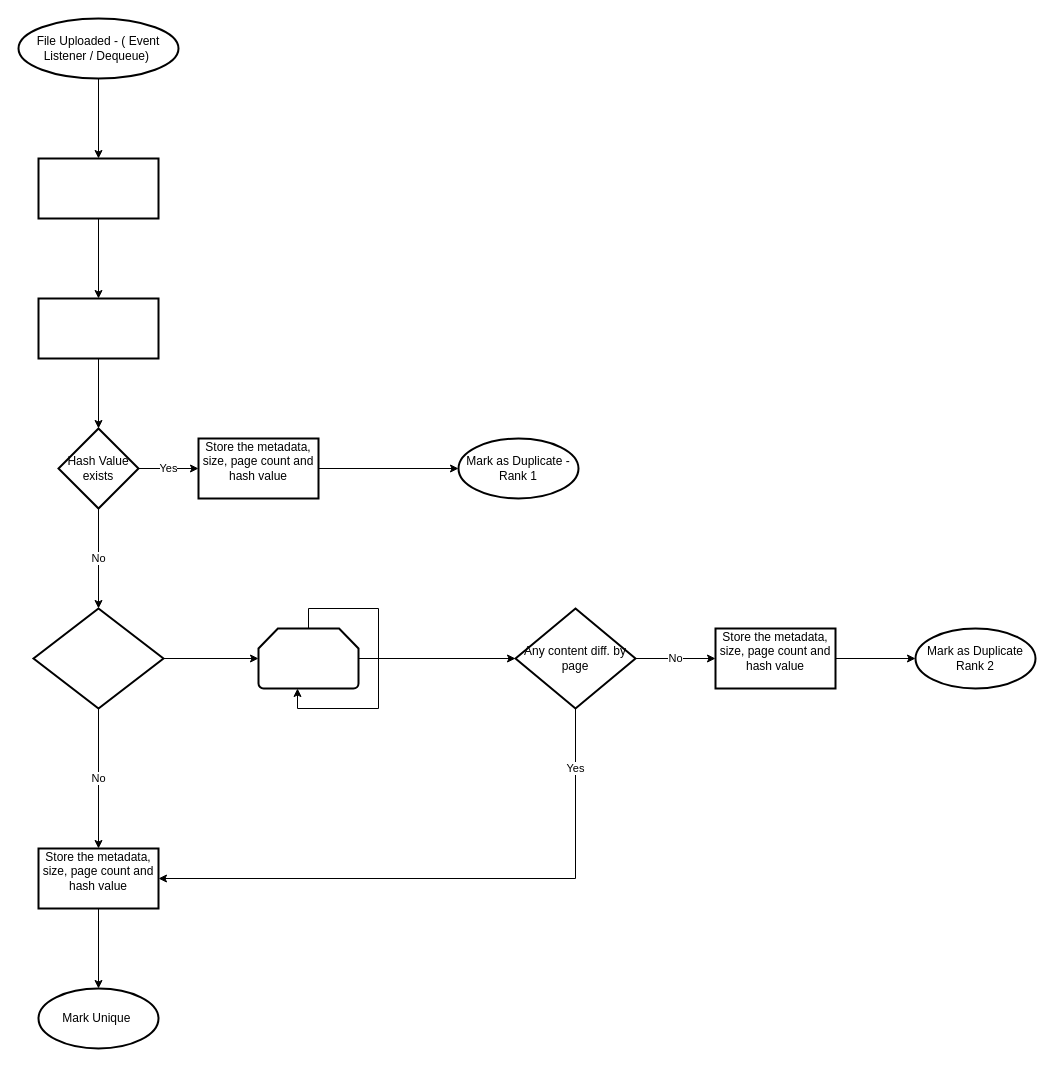
Image size: 1053x1066. Some labels were removed from this diagram. The box of each missing label's shape, as (x1, y1, x2, y2) in pixels:
Fetch the file from S3: (37, 157, 159, 219)
Fetch the metadata, size, page count and hash value: (37, 297, 159, 359)
Run Look Up algorithm - based on the page content: (257, 627, 359, 689)
Same Pagecnt & Size docs exists: (32, 607, 164, 709)
